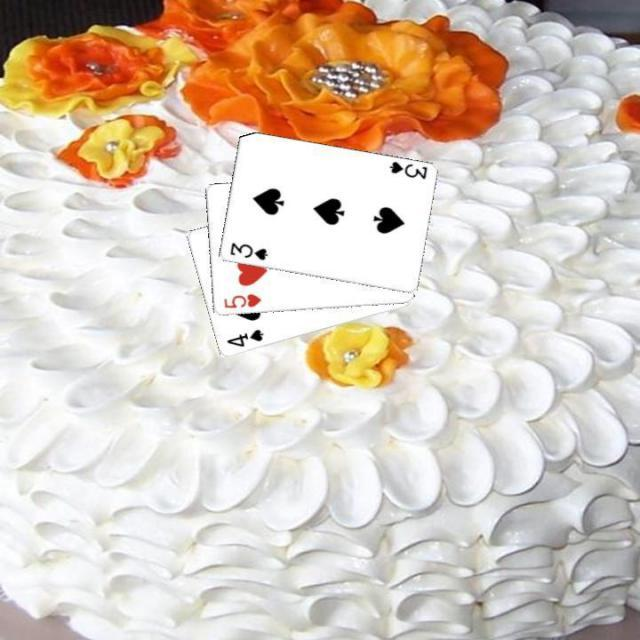3S: (385, 158, 428, 182), (226, 239, 270, 262)
4S: (222, 326, 265, 350)
5H: (220, 290, 262, 310)
